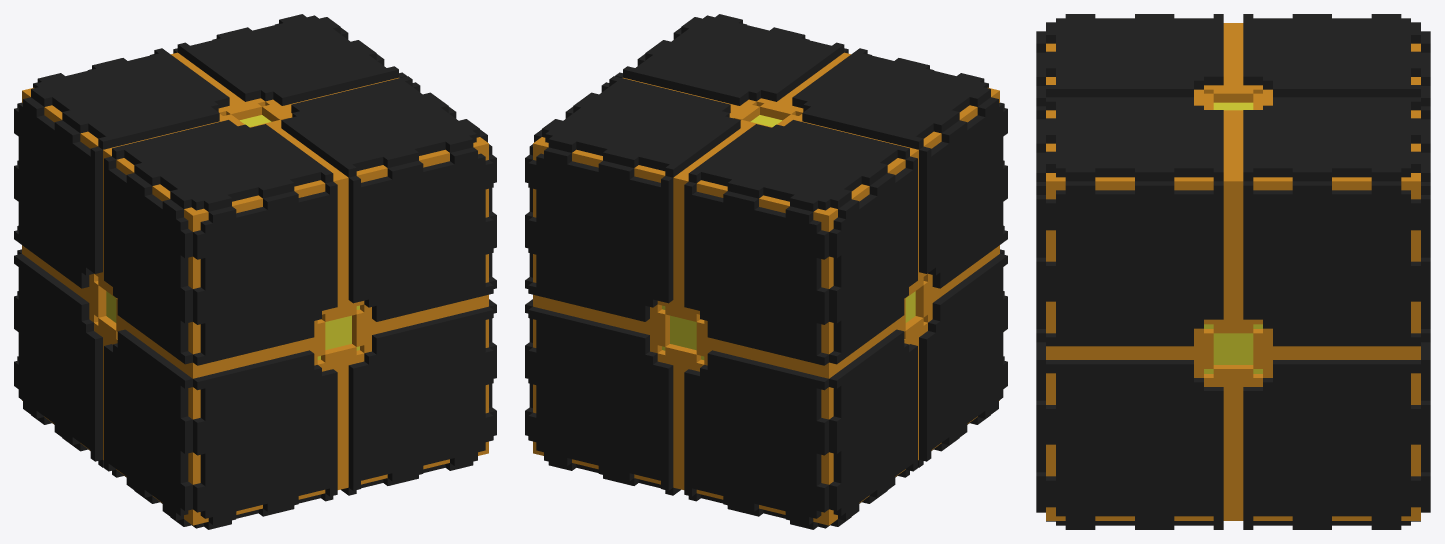
The model's file is GORODITH_cube.obj.
The picture shows the model from 3 angles, left to right: view 1: azimuth 30°, elevation 25°; view 2: azimuth 150°, elevation 25°; view 3: azimuth 270°, elevation 25°; orthographic projection. The views are drawn at different scales.
Size of the model in its own units: 4 by 4 by 4.
1 material, 1 textured.
